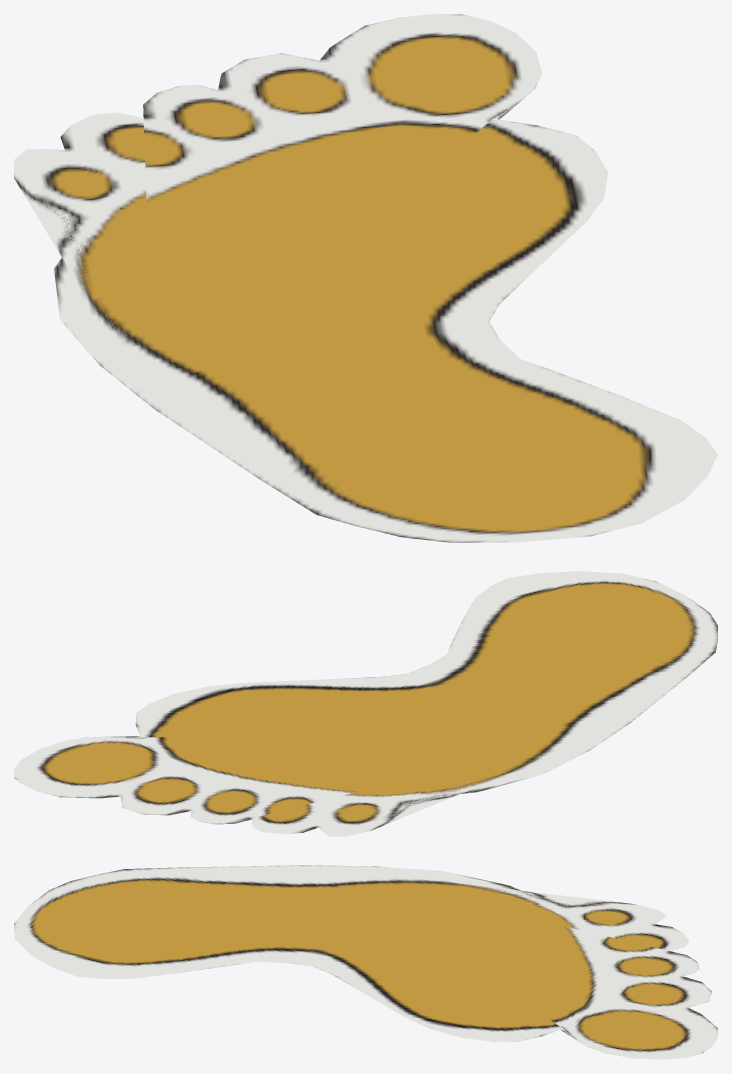
Rendered from YellowLeftFootprint.fbx.
3 views of the same model, one above another, from view 1: azimuth 30°, elevation 25°; view 2: azimuth 150°, elevation 25°; view 3: azimuth 270°, elevation 25° (orthographic). The views are drawn at different scales.
Parts seen in each view (by area): view 1: Plane.001; view 2: Plane.001; view 3: Plane.001.
Part boxes in pixels (x1,y1,x2,y2): Plane.001: (14,14,717,542); Plane.001: (14,571,717,836); Plane.001: (14,865,717,1059).
Size of the model in its own units: 793 by 0.000197 by 1211.
